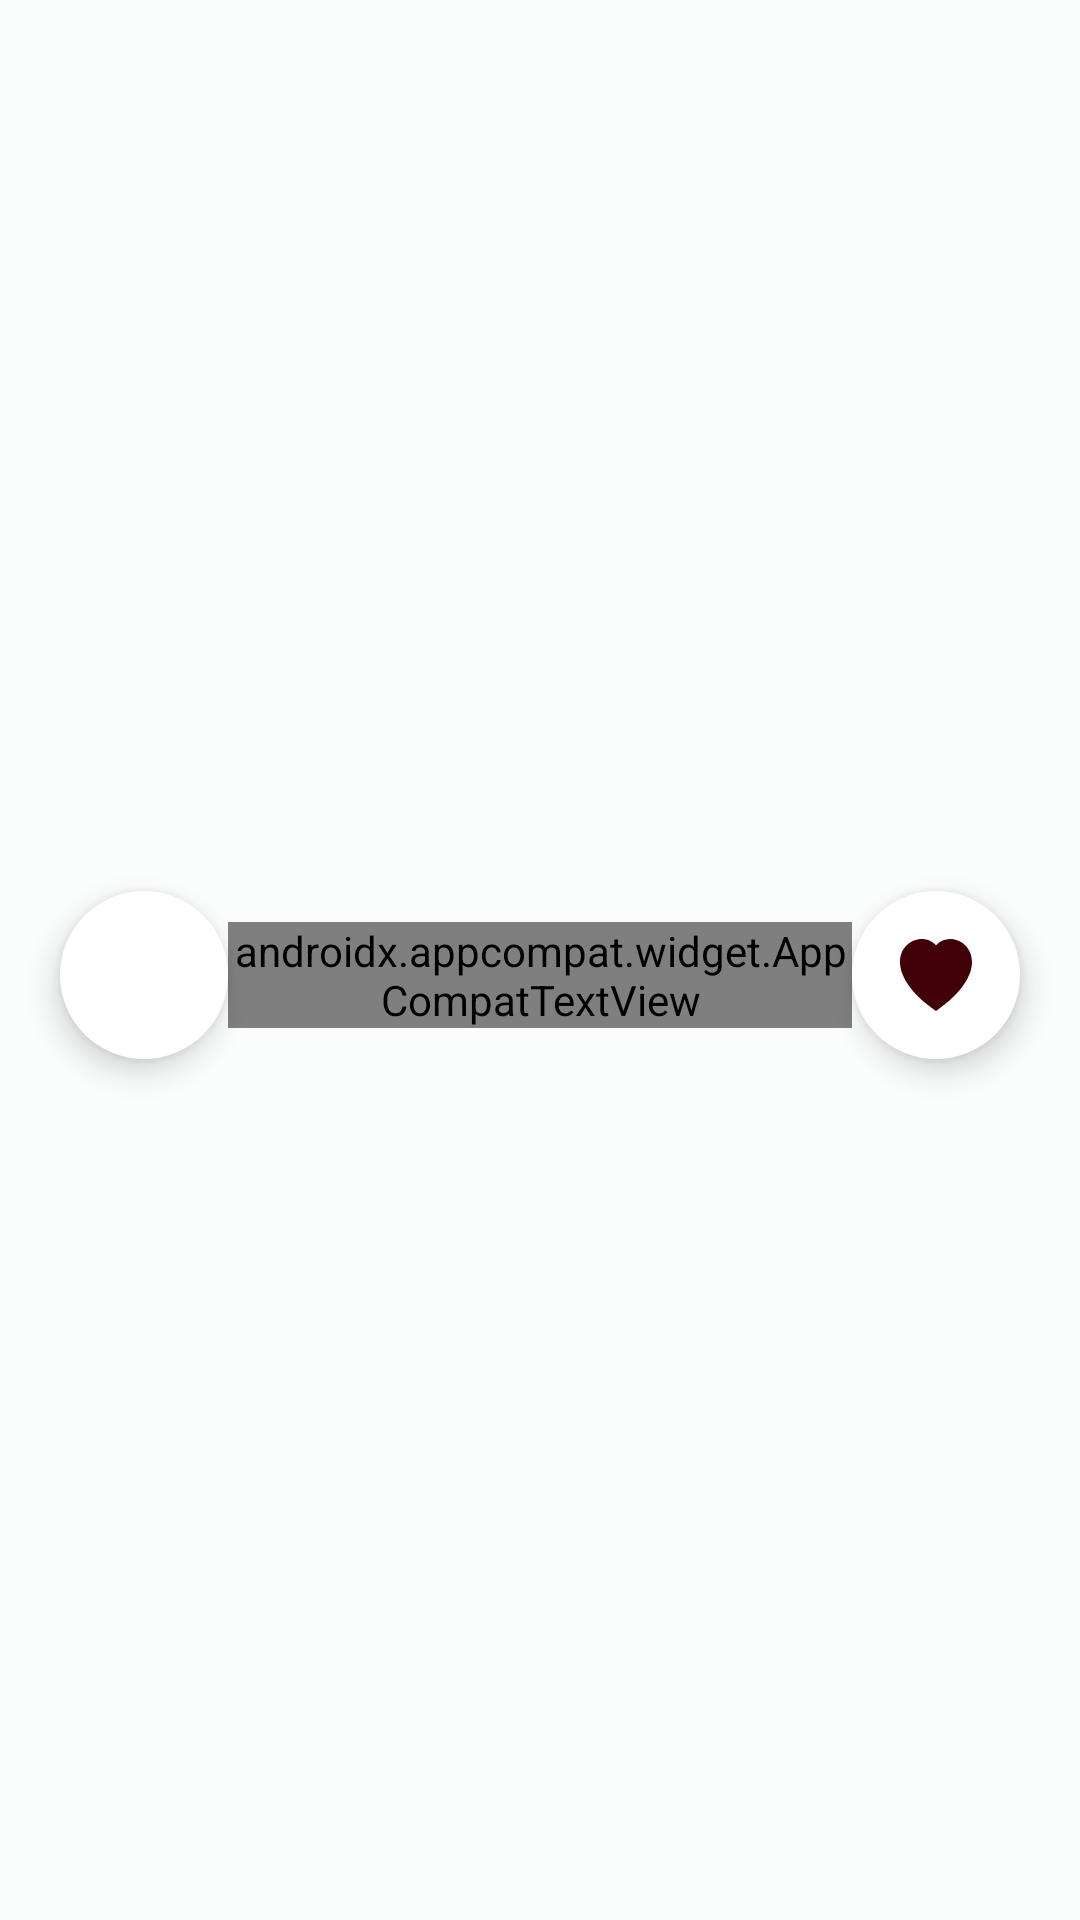

Locate icon controls on the screen. Image size 1080 x 1920, boxes as [left=x1, top=y1, right=x2, bottom=y2].
heart: [left=860, top=939, right=1018, bottom=1016]
